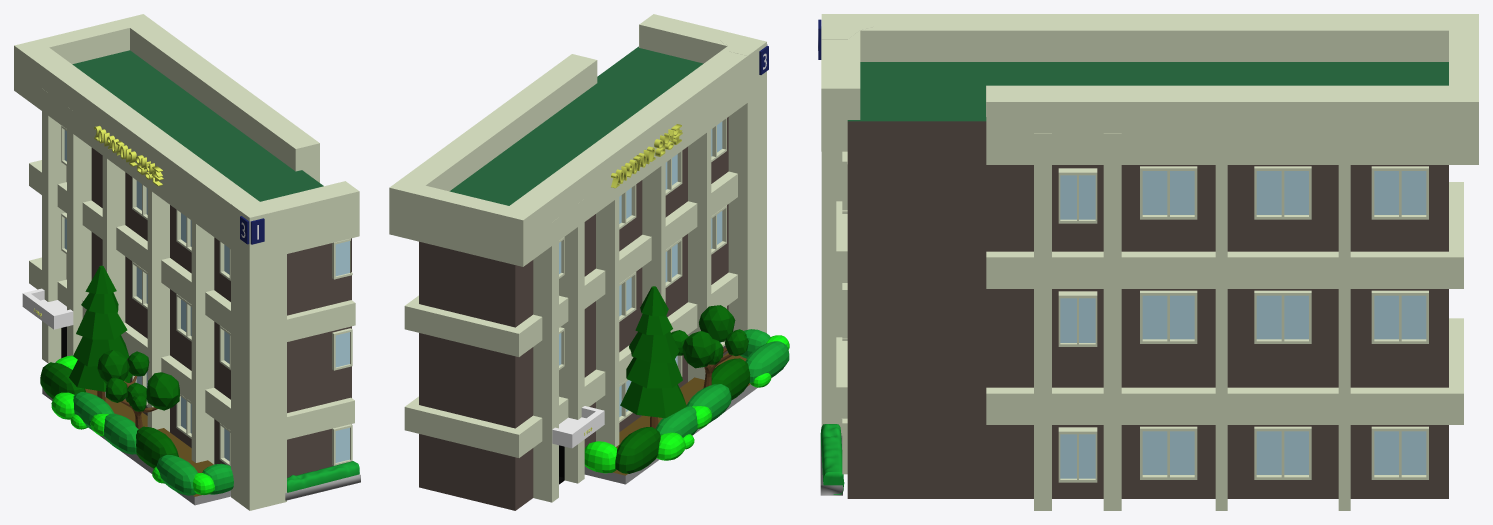
3 renders of one model, left to right at view 1: azimuth 30°, elevation 25°; view 2: azimuth 150°, elevation 25°; view 3: azimuth 270°, elevation 25°, orthographic. The views are drawn at different scales.
Parts seen in each view (by area): view 1: B1-B3.001; view 2: B1-B3.001; view 3: B1-B3.001.
Part boxes in pixels (x1,y1,x2,y2): B1-B3.001: [14, 14, 360, 510]; B1-B3.001: [389, 14, 789, 510]; B1-B3.001: [818, 14, 1478, 510].
Size of the model in its own units: 102 by 150 by 220.
